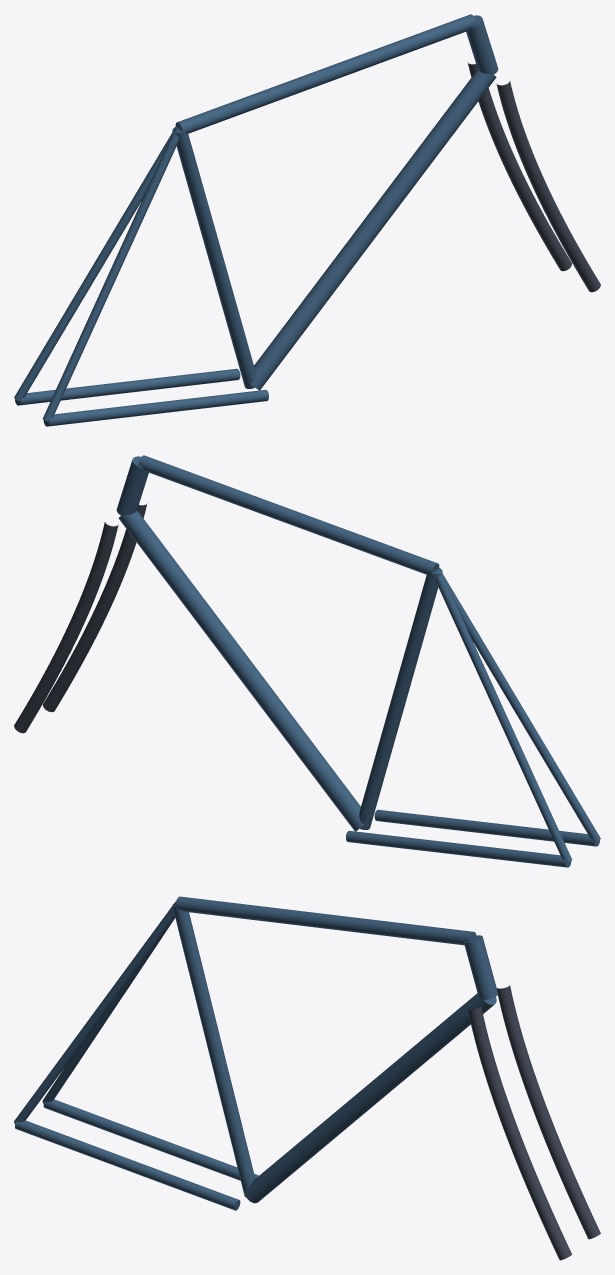
Rendered from dosnoventa-01-bcn-s.glb.
3 renders of one model, top to bottom at view 1: azimuth 30°, elevation 25°; view 2: azimuth 150°, elevation 25°; view 3: azimuth 330°, elevation 25°, orthographic.
Visible parts, largest first — view 1: paint_down, paint_top, paint_seat, fork_0.045, paint_seatstay_0.045, fork_-0.045, paint_chainstay_0.045, paint_seatstay_-0.045, paint_chainstay_-0.045, paint_head; view 2: paint_down, paint_top, paint_seat, fork_-0.045, paint_seatstay_-0.045, fork_0.045, paint_chainstay_-0.045, paint_seatstay_0.045, paint_chainstay_0.045, paint_head; view 3: paint_down, paint_top, paint_seat, fork_0.045, fork_-0.045, paint_chainstay_0.045, paint_chainstay_-0.045, paint_seatstay_0.045, paint_seatstay_-0.045, paint_head.
Boxes of the visible parts, <box> form: paint_down: <box>250,69,496,390</box>; paint_top: <box>175,14,476,133</box>; paint_seat: <box>172,126,255,388</box>; fork_0.045: <box>496,81,600,292</box>; paint_seatstay_0.045: <box>42,128,181,421</box>; fork_-0.045: <box>467,62,571,271</box>; paint_chainstay_0.045: <box>43,389,268,426</box>; paint_seatstay_-0.045: <box>14,127,178,401</box>; paint_chainstay_-0.045: <box>15,368,240,405</box>; paint_head: <box>466,15,498,74</box>; paint_down: <box>118,510,364,831</box>; paint_top: <box>138,455,439,574</box>; paint_seat: <box>359,567,442,829</box>; fork_-0.045: <box>14,522,118,733</box>; paint_seatstay_-0.045: <box>433,569,572,862</box>; fork_0.045: <box>43,503,147,712</box>; paint_chainstay_-0.045: <box>346,830,571,867</box>; paint_seatstay_0.045: <box>436,568,600,842</box>; paint_chainstay_0.045: <box>374,809,599,846</box>; paint_head: <box>116,456,148,515</box>; paint_down: <box>244,993,496,1203</box>; paint_top: <box>175,896,476,945</box>; paint_seat: <box>172,904,255,1197</box>; fork_0.045: <box>467,1006,571,1260</box>; fork_-0.045: <box>497,985,600,1239</box>; paint_chainstay_0.045: <box>15,1120,240,1210</box>; paint_chainstay_-0.045: <box>43,1099,258,1180</box>; paint_seatstay_0.045: <box>14,901,175,1123</box>; paint_seatstay_-0.045: <box>42,917,175,1103</box>; paint_head: <box>464,935,498,999</box>.
Size of the model in its own units: 1.01 by 0.5572 by 0.112.
